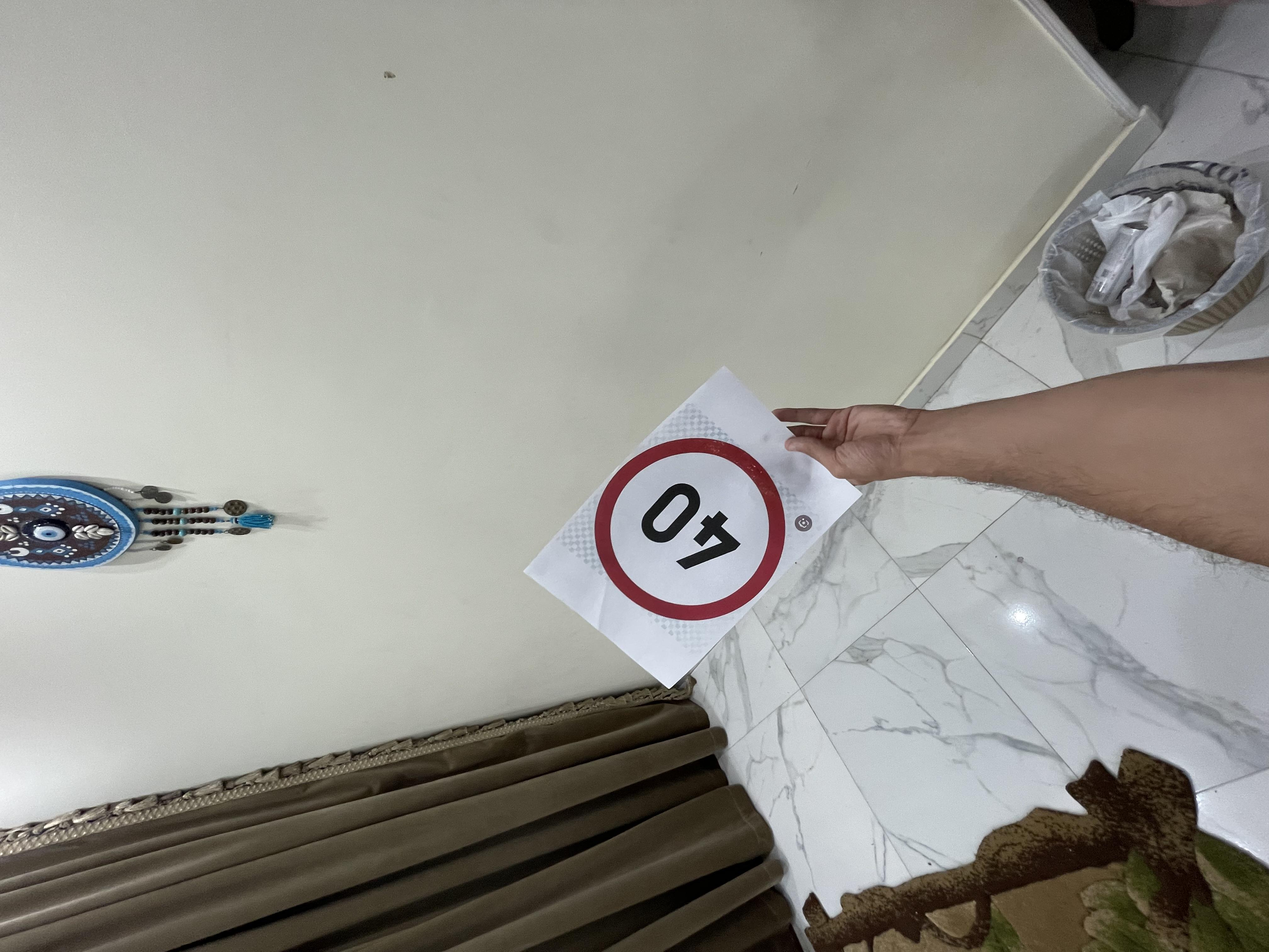40-Speed: (429, 447, 697, 589)
